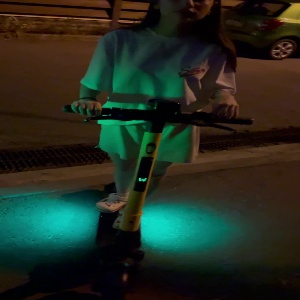human on a scooter: (62, 1, 255, 300)
